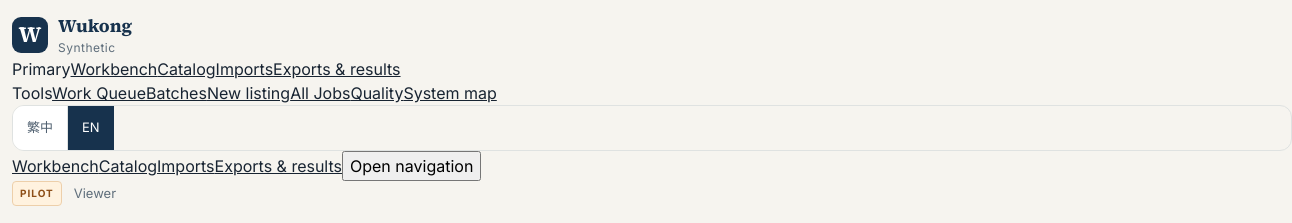
Test case: grouped operator navigation › updates selection after query-only navigation and localizes group labels
Step 1. Click the button with test id "locale-toggle-zh" → click(40, 128), box [13,106,67,150]
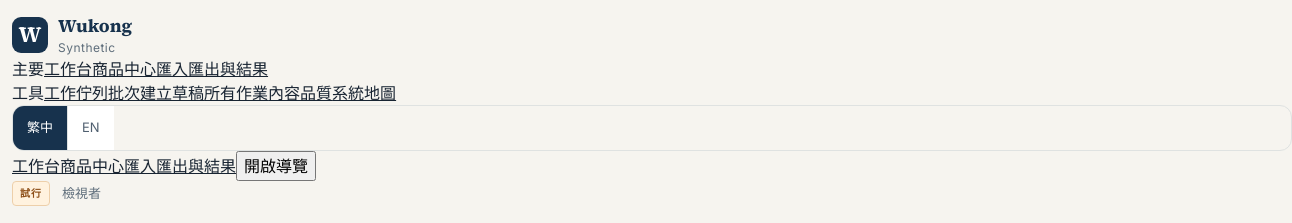
Expected: the element named "工具" is shown, [12,83,396,103]
Expected: the navigation bar with class "app-sidebar" shows "工作台", [44,59,92,79]
